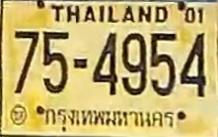4: (180, 32, 206, 96), (92, 32, 117, 94)
5: (42, 30, 69, 94), (150, 32, 176, 95)
7: (14, 30, 38, 94)
9: (121, 32, 146, 94)
BKK: (42, 103, 176, 135)
